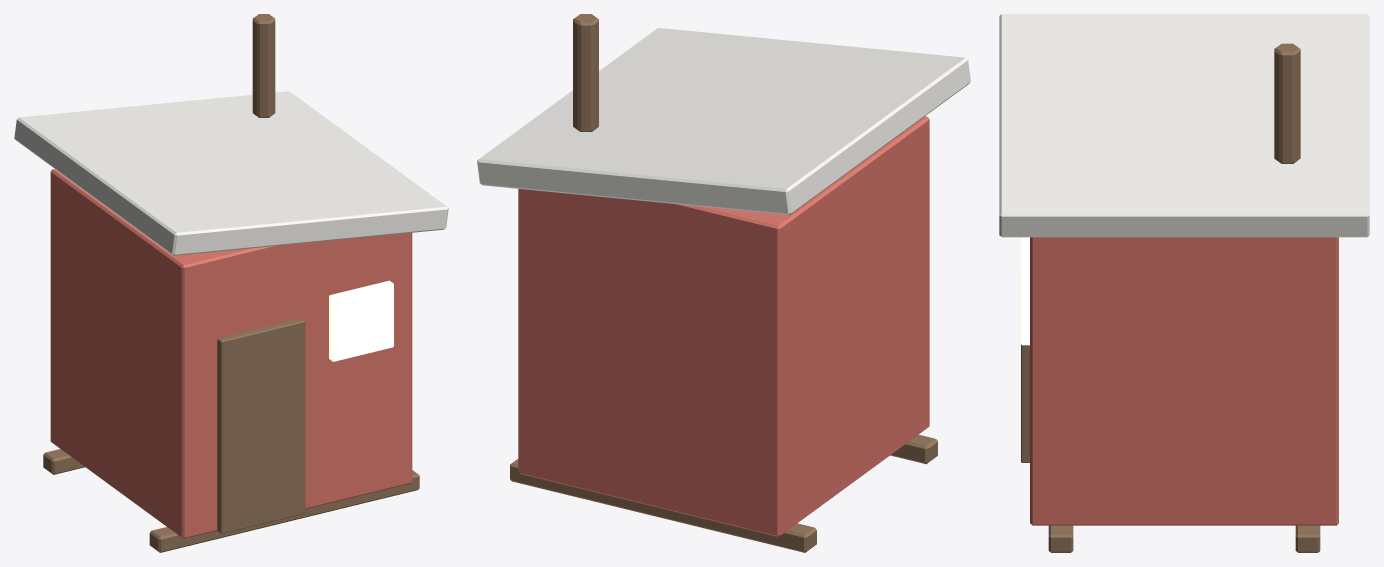
3 views of the same model, side by side, from view 1: azimuth 30°, elevation 25°; view 2: azimuth 150°, elevation 25°; view 3: azimuth 270°, elevation 25° (orthographic). The views are drawn at different scales.
Visible parts, largest first — view 1: FishingHut; view 2: FishingHut; view 3: FishingHut.
Part boxes in pixels (<box>): FishingHut: <box>14,14,448,552</box>; FishingHut: <box>477,14,970,552</box>; FishingHut: <box>999,14,1369,552</box>.
Size of the model in its own units: 1.8 by 2.55 by 1.8.
